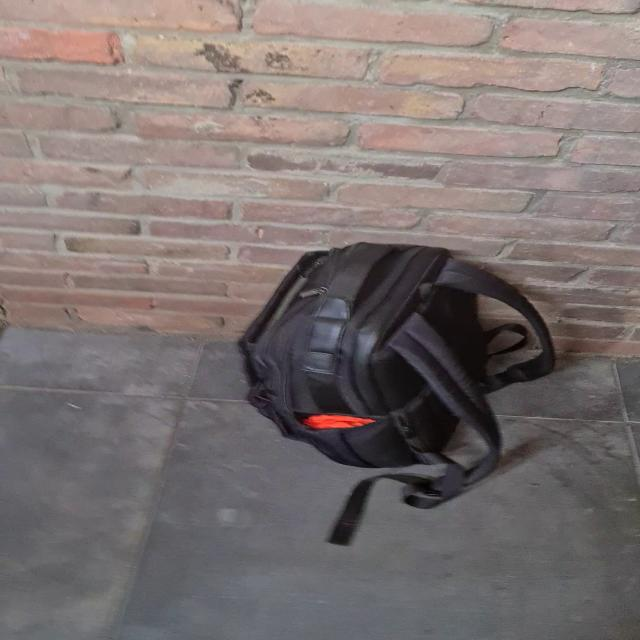backpack: (227, 232, 564, 505)
